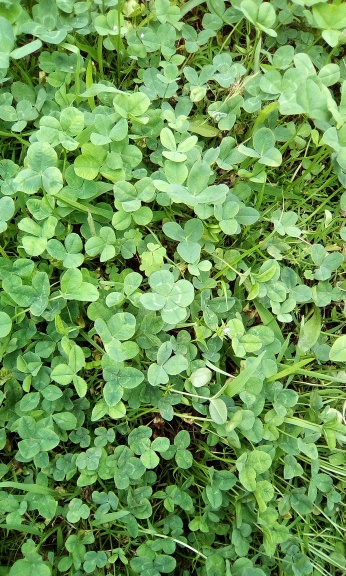4leaf: (139, 270, 194, 324)
